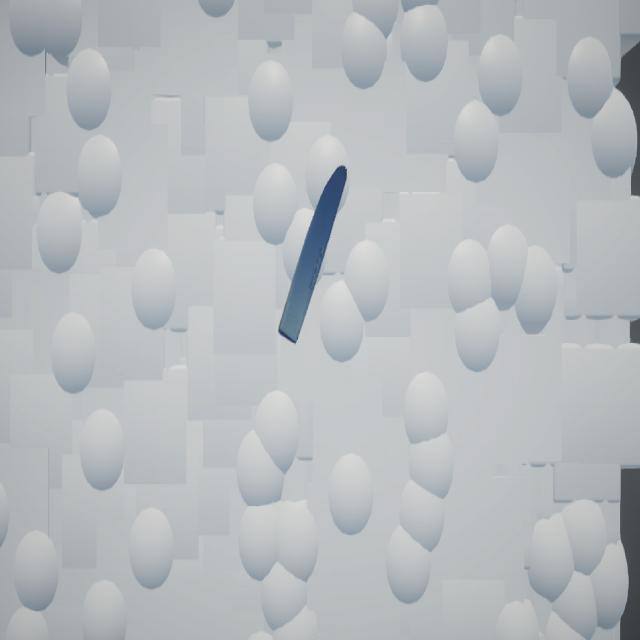top_knife: (279, 165, 348, 345)
